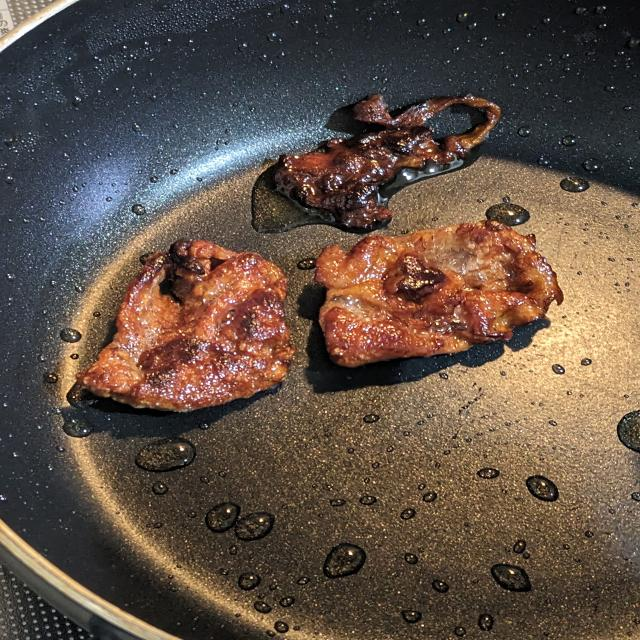overcooked pork: (57, 227, 306, 424), (304, 212, 576, 378), (267, 91, 512, 245)
